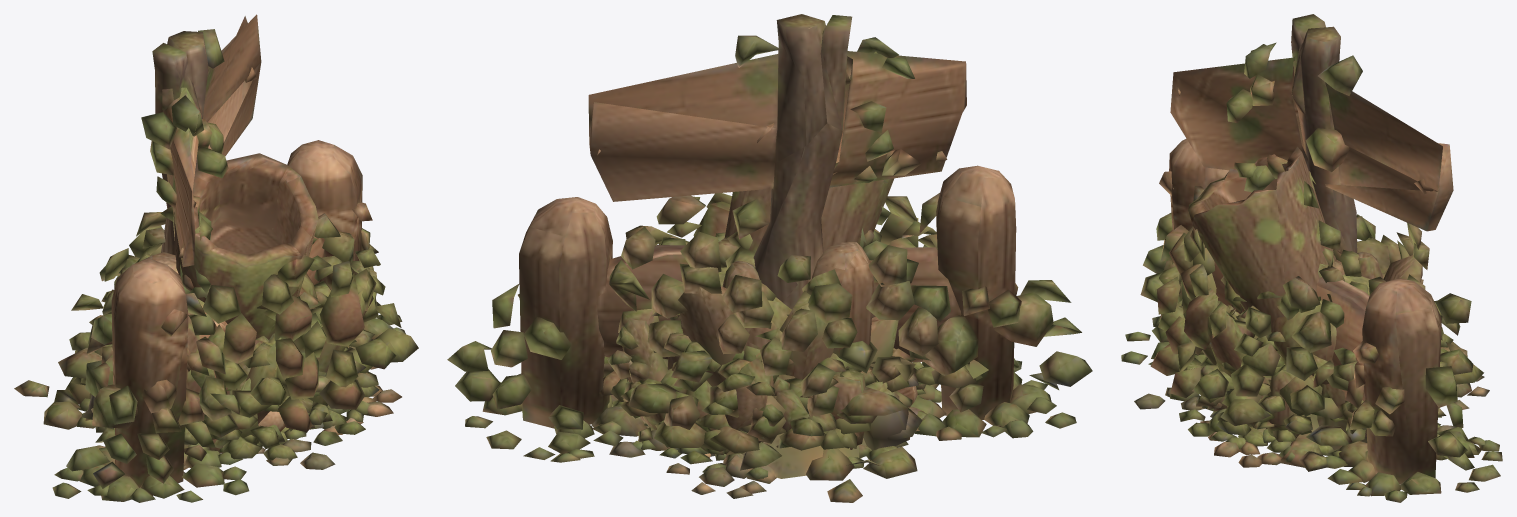
Rendered from bosque_sendero.glb.
3 views of the same model, side by side, from view 1: azimuth 30°, elevation 25°; view 2: azimuth 150°, elevation 25°; view 3: azimuth 270°, elevation 25° (orthographic). The views are drawn at different scales.
Parts seen in each view (by area): view 1: valla_tramo, arbusto_frutos, cartel_bosque, tronco_hueco, raiz_grande, arbusto_hojas; view 2: valla_tramo, cartel_bosque, arbusto_frutos, raiz_grande, arbusto_hojas, tronco_hueco; view 3: cartel_bosque, valla_tramo, arbusto_frutos, tronco_hueco, raiz_grande, arbusto_hojas.
Part boxes in pixels (<box>): valla_tramo: <box>52,140,405,502</box>; arbusto_frutos: <box>71,212,418,451</box>; cartel_bosque: <box>141,14,261,293</box>; tronco_hueco: <box>175,153,330,438</box>; raiz_grande: <box>14,252,401,469</box>; arbusto_hojas: <box>69,291,379,460</box>; valla_tramo: <box>447,165,1092,462</box>; cartel_bosque: <box>588,14,966,460</box>; arbusto_frutos: <box>603,193,976,451</box>; raiz_grande: <box>591,242,962,502</box>; arbusto_hojas: <box>607,261,941,478</box>; tronco_hueco: <box>644,178,894,454</box>; cartel_bosque: <box>1170,14,1453,259</box>; valla_tramo: <box>1121,138,1502,502</box>; arbusto_frutos: <box>1150,214,1473,442</box>; tronco_hueco: <box>1188,146,1385,442</box>; raiz_grande: <box>1134,274,1489,471</box>; arbusto_hojas: <box>1169,252,1453,462</box>.
Size of the model in its own units: 2 by 1.6 by 1.55.
1 material, 1 textured.
